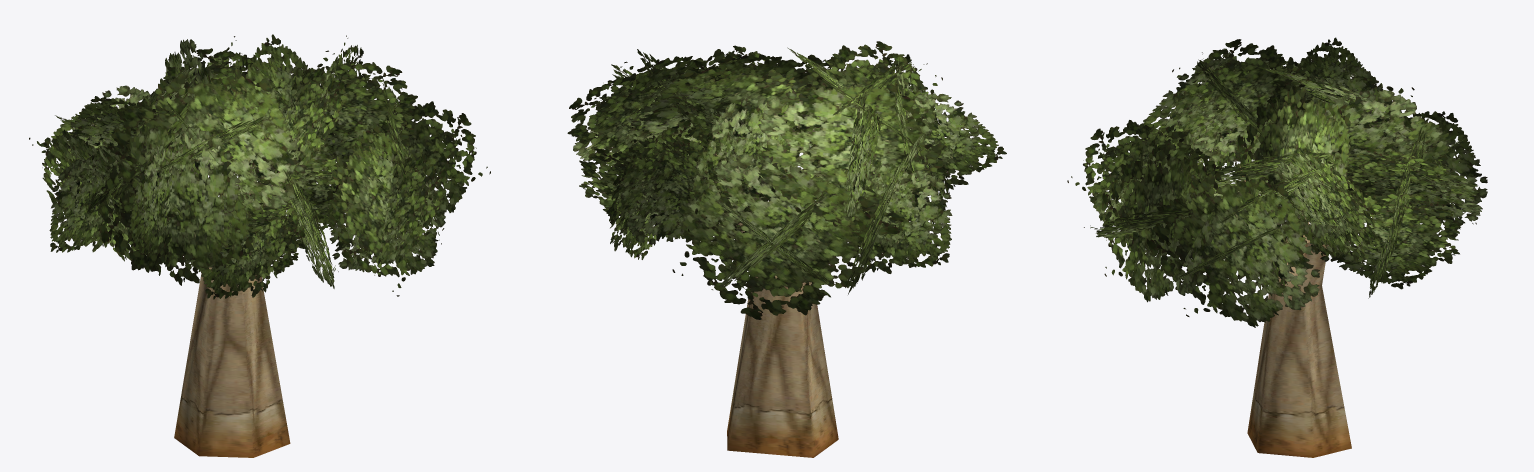
Rendered from core_decd_vweilu_l2.fbx.
3 views of the same model, side by side, from view 1: azimuth 30°, elevation 25°; view 2: azimuth 150°, elevation 25°; view 3: azimuth 270°, elevation 25° (orthographic). The views are drawn at different scales.
Parts seen in each view (by area): view 1: mesh_node; view 2: mesh_node; view 3: mesh_node.
Boxes of the visible parts, box(x1,y1,x2,y2) form: mesh_node: box(29, 34, 490, 457); mesh_node: box(567, 41, 1006, 457); mesh_node: box(1067, 37, 1487, 457).
Bounding box in the file's own units: 18.05 × 16.5 × 18.37.
Materials: 2 (2 with a texture image).
